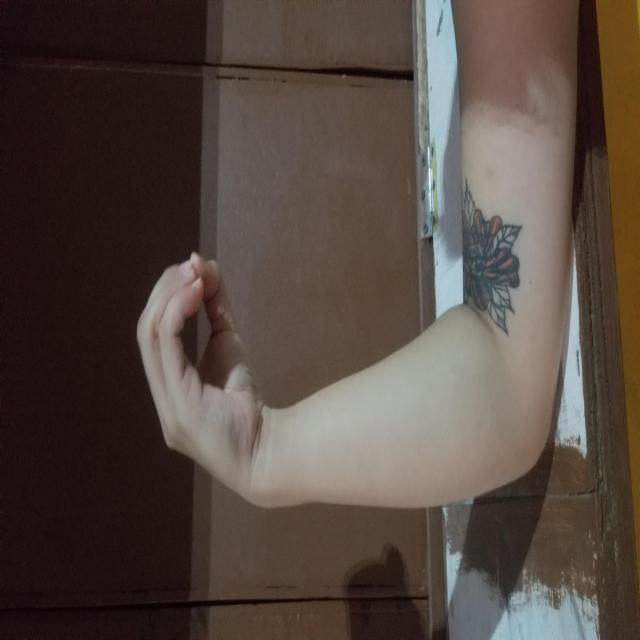O: (154, 136, 388, 257)
